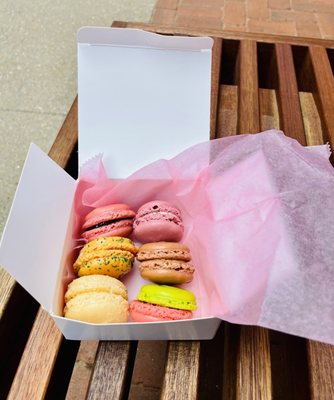curry: (0, 27, 334, 400)
salad: (63, 274, 129, 323), (128, 283, 197, 322), (73, 237, 136, 278), (78, 204, 137, 243), (132, 200, 184, 244), (63, 291, 129, 324), (64, 275, 129, 303), (136, 258, 196, 284), (136, 241, 194, 263)
